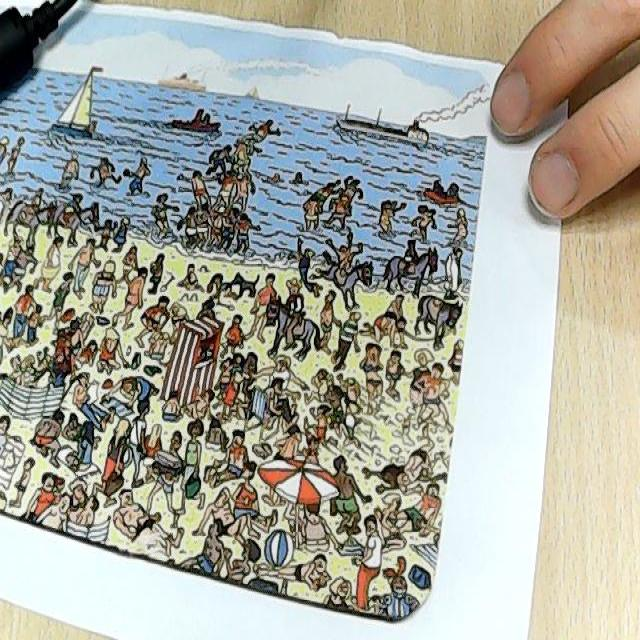waldo: (59, 326, 75, 351)
